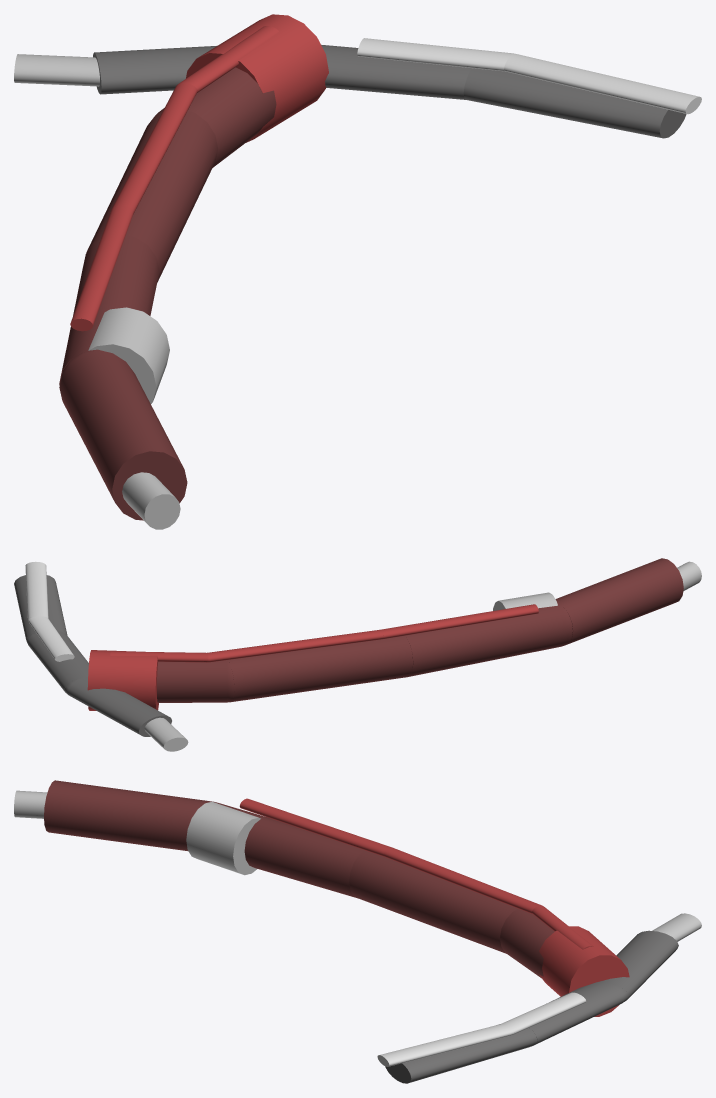
Rendered from CMU3DFieldRMCIceAxeRedCloud.glb.
3 renders of one model, top to bottom at view 1: azimuth 30°, elevation 25°; view 2: azimuth 150°, elevation 25°; view 3: azimuth 270°, elevation 25°, orthographic. The views are drawn at different scales.
Visible parts, largest first — view 1: red curved axe shaft span 1, red curved axe shaft span 3, axe curved head span 3, head red collar, axe curved head span 2, red curved axe shaft span 4, red curved axe shaft span 2, steel grip collar, axe curved head span 1, axe bright edge span 2, bright red shaft ridge span 2, bright red shaft ridge span 1 (+4 smaller); view 2: red curved axe shaft span 3, red curved axe shaft span 2, red curved axe shaft span 1, head red collar, red curved axe shaft span 4, axe curved head span 1, bright red shaft ridge span 2, bright red shaft ridge span 1, axe curved head span 2, axe curved head span 3, axe bright edge span 2, axe bright edge span 1 (+4 smaller); view 3: red curved axe shaft span 1, red curved axe shaft span 3, red curved axe shaft span 2, head red collar, steel grip collar, axe curved head span 3, axe curved head span 1, red curved axe shaft span 4, axe curved head span 2, bright red shaft ridge span 2, axe bright edge span 2, bright red shaft ridge span 1 (+4 smaller).
Part boxes in pixels (<box>): red curved axe shaft span 1: <box>60,350,187,520</box>; red curved axe shaft span 3: <box>86,110,217,282</box>; axe curved head span 3: <box>463,68,686,138</box>; head red collar: <box>186,14,328,142</box>; axe curved head span 2: <box>321,44,471,99</box>; red curved axe shaft span 4: <box>157,67,276,167</box>; red curved axe shaft span 2: <box>59,235,159,384</box>; steel grip collar: <box>88,307,169,403</box>; axe curved head span 1: <box>93,46,216,94</box>; axe bright edge span 2: <box>504,54,701,114</box>; bright red shaft ridge span 2: <box>112,83,197,213</box>; bright red shaft ridge span 1: <box>70,205,133,331</box>; red curved axe shaft span 3: <box>228,635,410,702</box>; red curved axe shaft span 2: <box>406,602,567,677</box>; red curved axe shaft span 1: <box>555,558,683,645</box>; head red collar: <box>87,650,158,710</box>; red curved axe shaft span 4: <box>157,660,227,702</box>; axe curved head span 1: <box>67,677,171,736</box>; bright red shaft ridge span 2: <box>207,629,383,662</box>; bright red shaft ridge span 1: <box>380,604,538,638</box>; axe curved head span 2: <box>27,631,88,692</box>; axe curved head span 3: <box>14,575,67,640</box>; axe bright edge span 2: <box>25,561,48,619</box>; axe bright edge span 1: <box>28,616,74,661</box>; red curved axe shaft span 1: <box>44,780,212,850</box>; red curved axe shaft span 3: <box>349,850,517,953</box>; red curved axe shaft span 2: <box>215,802,364,898</box>; head red collar: <box>539,926,629,1016</box>; steel grip collar: <box>186,801,260,875</box>; axe curved head span 3: <box>385,1024,533,1083</box>; axe curved head span 1: <box>601,930,678,999</box>; red curved axe shaft span 4: <box>500,908,554,978</box>; axe curved head span 2: <box>529,981,624,1045</box>; bright red shaft ridge span 2: <box>383,847,540,913</box>; axe bright edge span 2: <box>377,1024,511,1066</box>; bright red shaft ridge span 1: <box>239,798,391,856</box>.
Size of the model in its own units: 0.5696 by 0.0594 by 0.5966.
